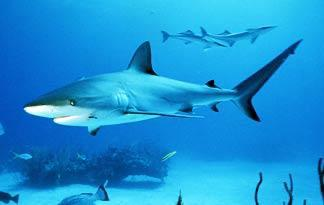Shark -Selachimorpha-: (19, 38, 305, 138)
